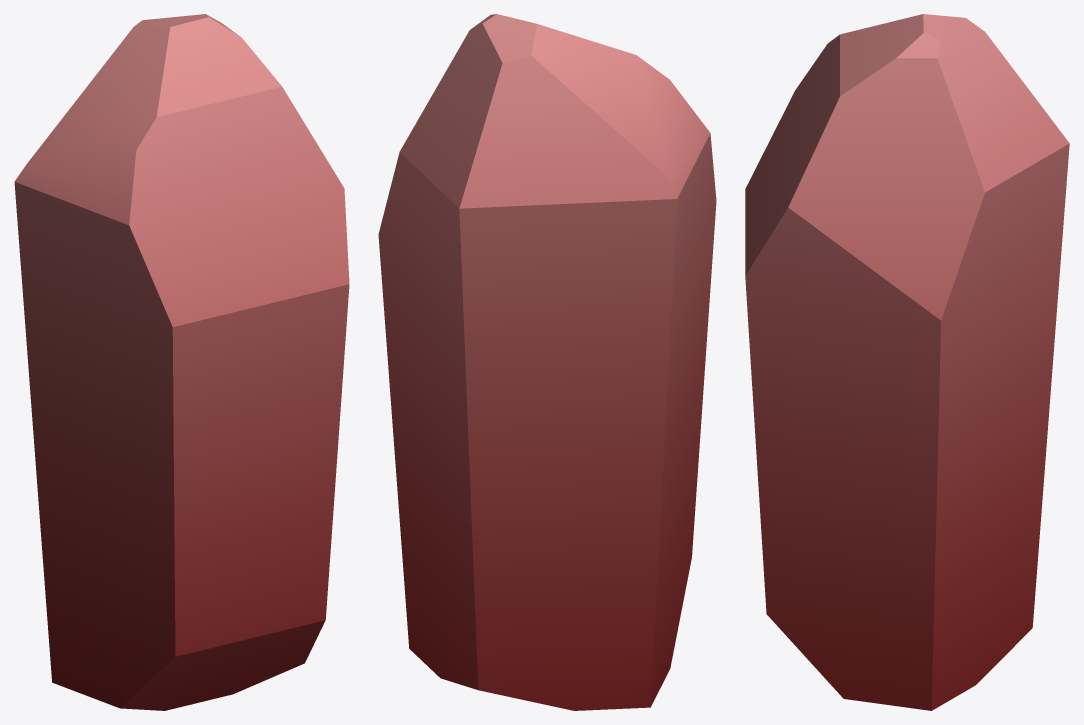
The model's file is Crystal_01.fbx.
The picture shows the model from 3 angles, left to right: view 1: azimuth 30°, elevation 25°; view 2: azimuth 150°, elevation 25°; view 3: azimuth 270°, elevation 25°; orthographic projection. The views are drawn at different scales.
Visible parts, largest first — view 1: Crystal_01_LOD0; view 2: Crystal_01_LOD0; view 3: Crystal_01_LOD0.
Boxes of the visible parts, bbox=[...] form: Crystal_01_LOD0: bbox=[14, 14, 349, 710]; Crystal_01_LOD0: bbox=[378, 14, 716, 710]; Crystal_01_LOD0: bbox=[745, 14, 1069, 710].
Size of what is drawn, in the model's own units: 0.4003 by 0.8662 by 0.3829.
